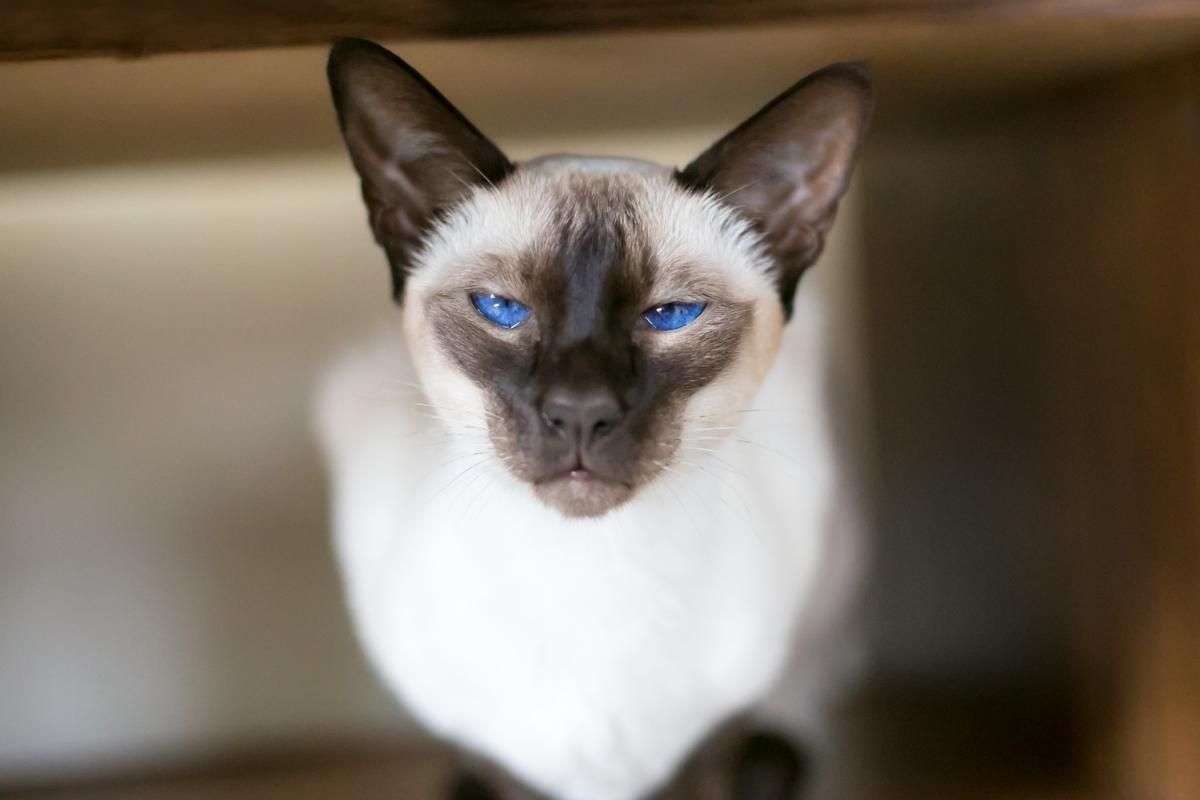siamese: (314, 15, 882, 542)
